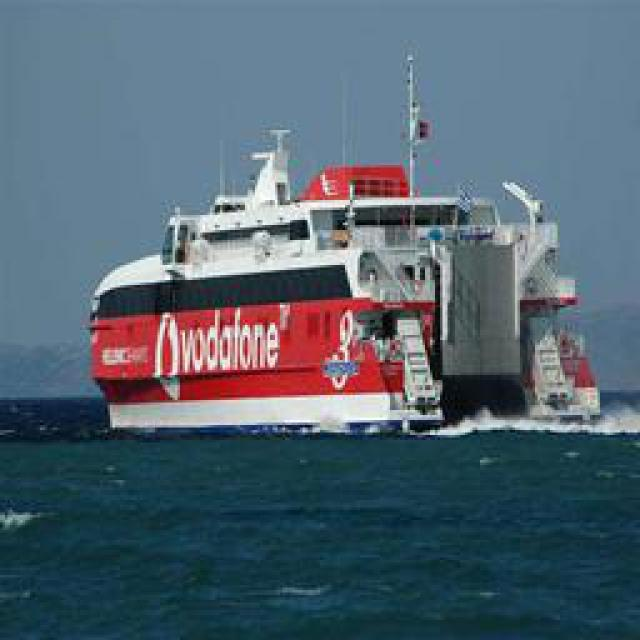Ship: (84, 114, 584, 434)
